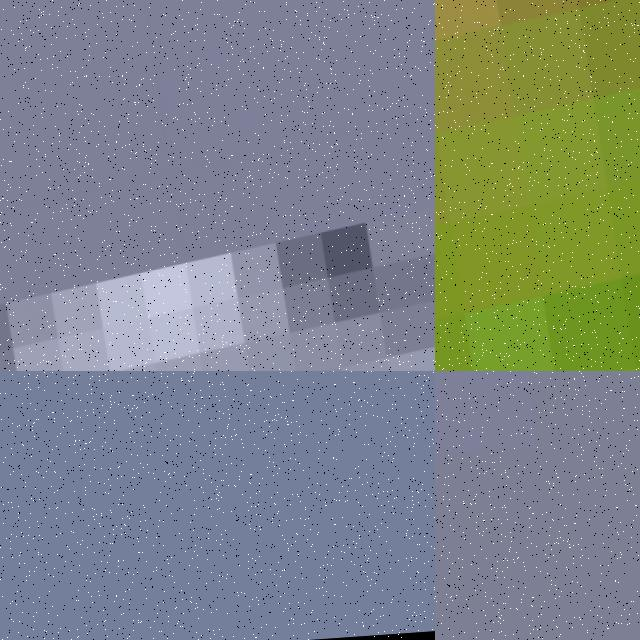0: (0, 0, 435, 371)
drone: (435, 0, 640, 371)
